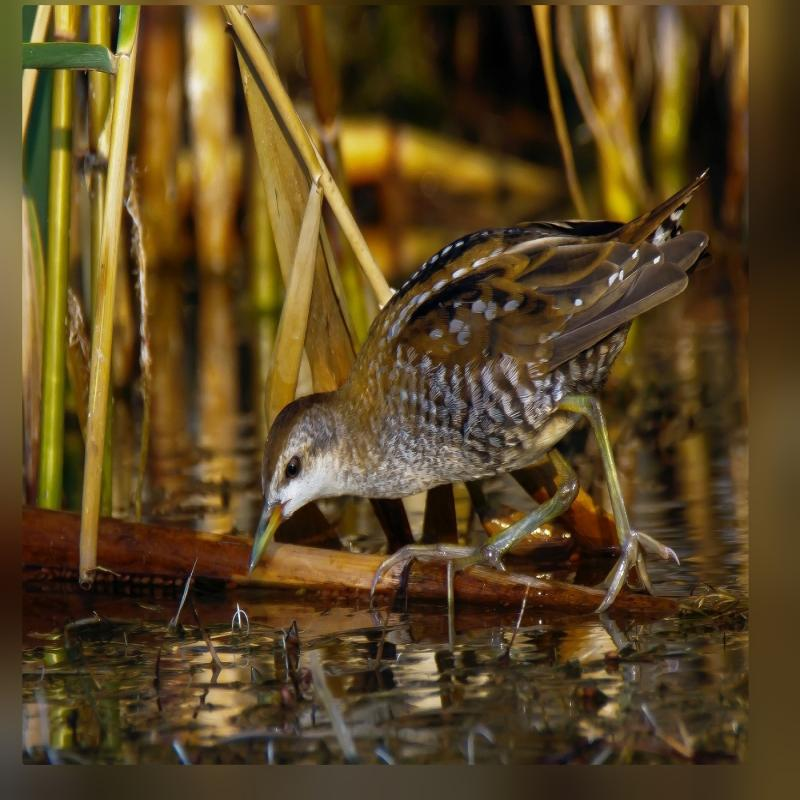little crake: (242, 160, 720, 586)
